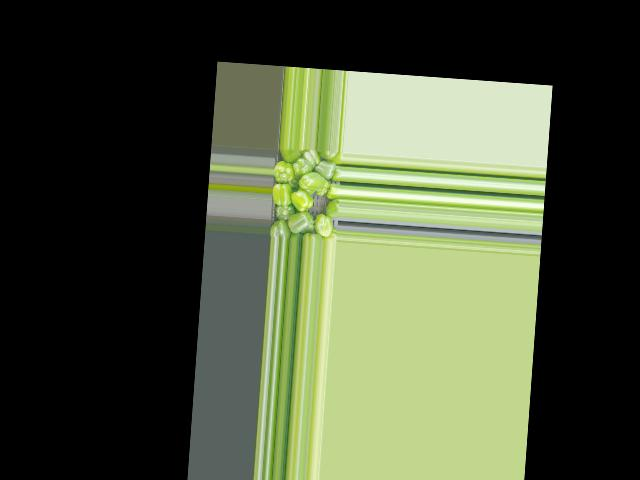bell_pepper: (284, 147, 303, 163)
